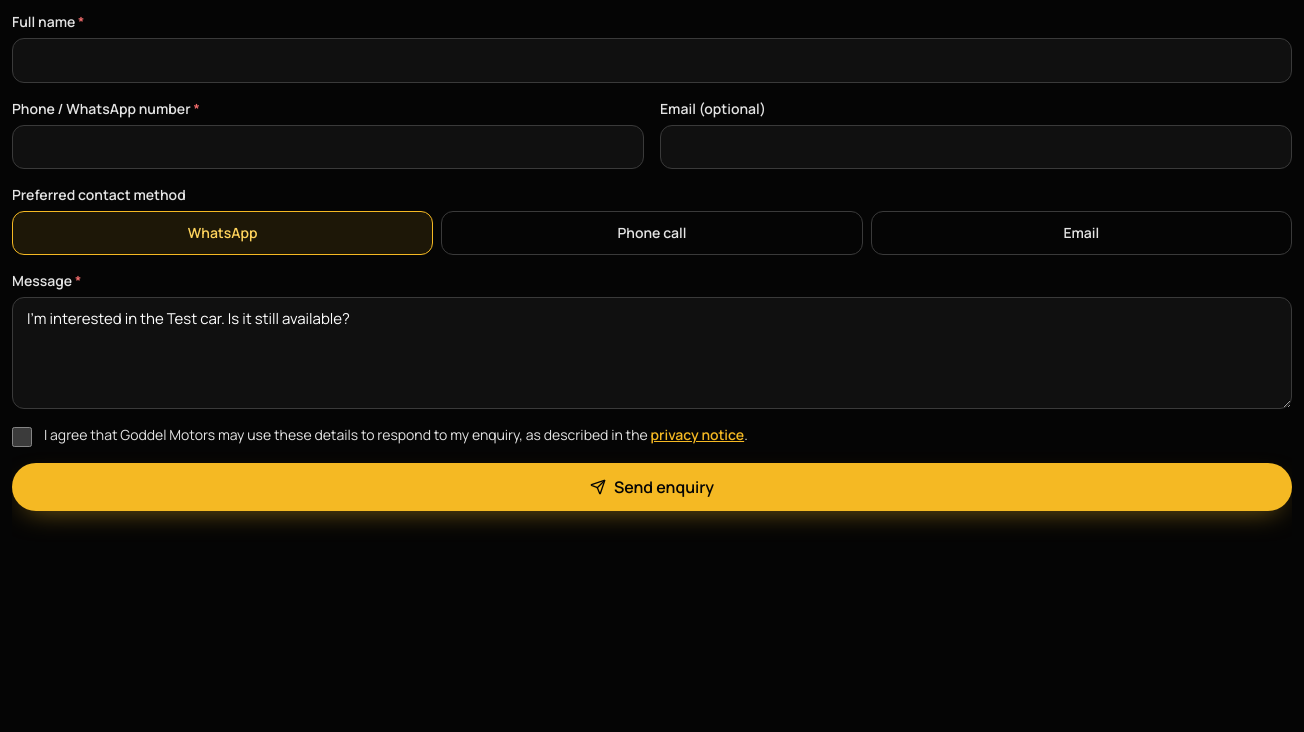
Test case: EnquiryForm › shows a friendly message when rate limited
Step 1. Type "Ama Mensah" into the field labelled "Full name *" → (652, 60), box left=12, top=38, right=1292, bottom=82
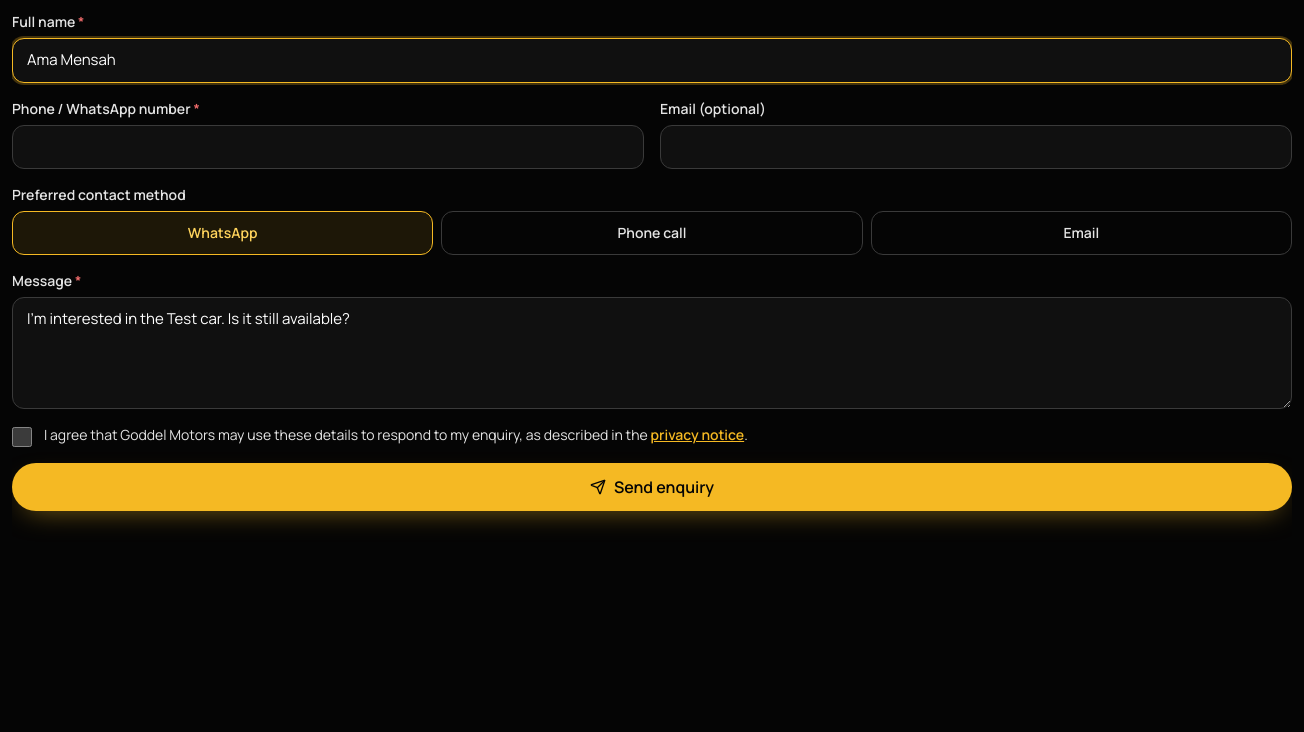
Step 2. Type "+233 24 123 4567" into the field labelled "Phone / WhatsApp number *" → (328, 147), box left=12, top=124, right=644, bottom=169
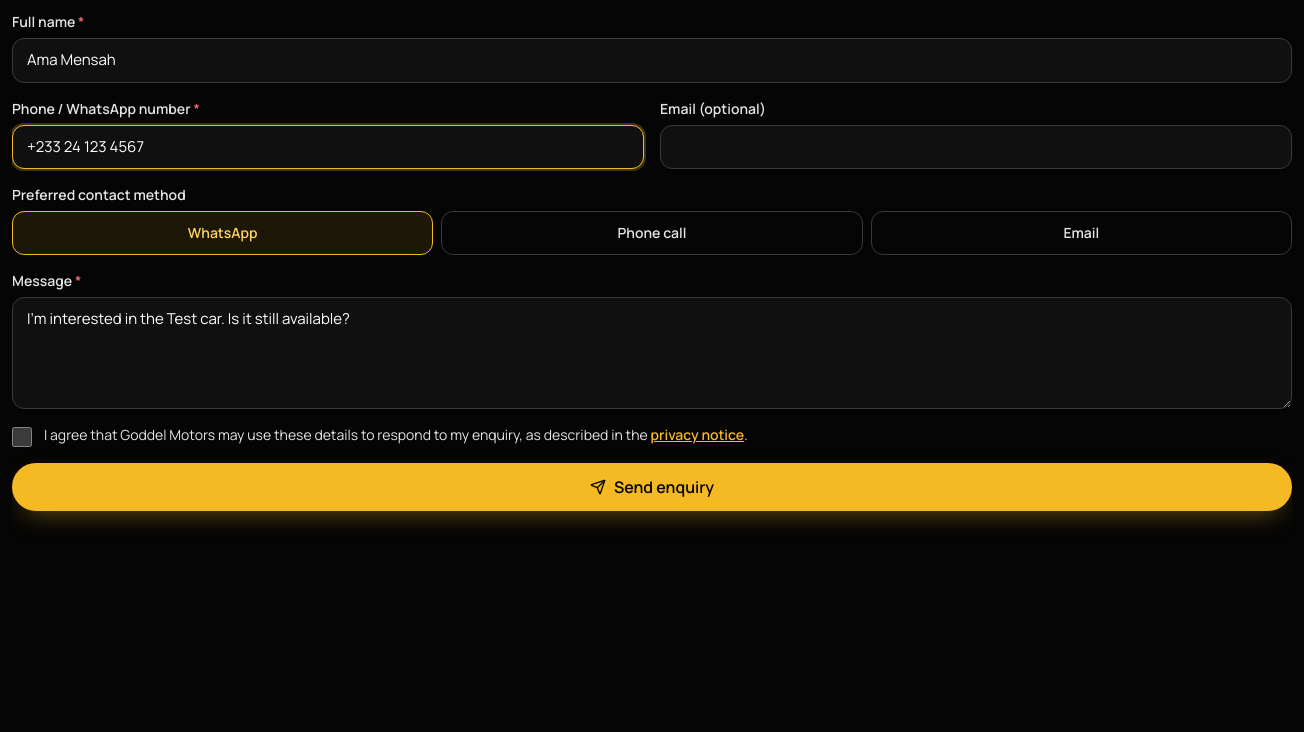
Step 3. Click the checkbox → (22, 437), box left=12, top=427, right=32, bottom=447
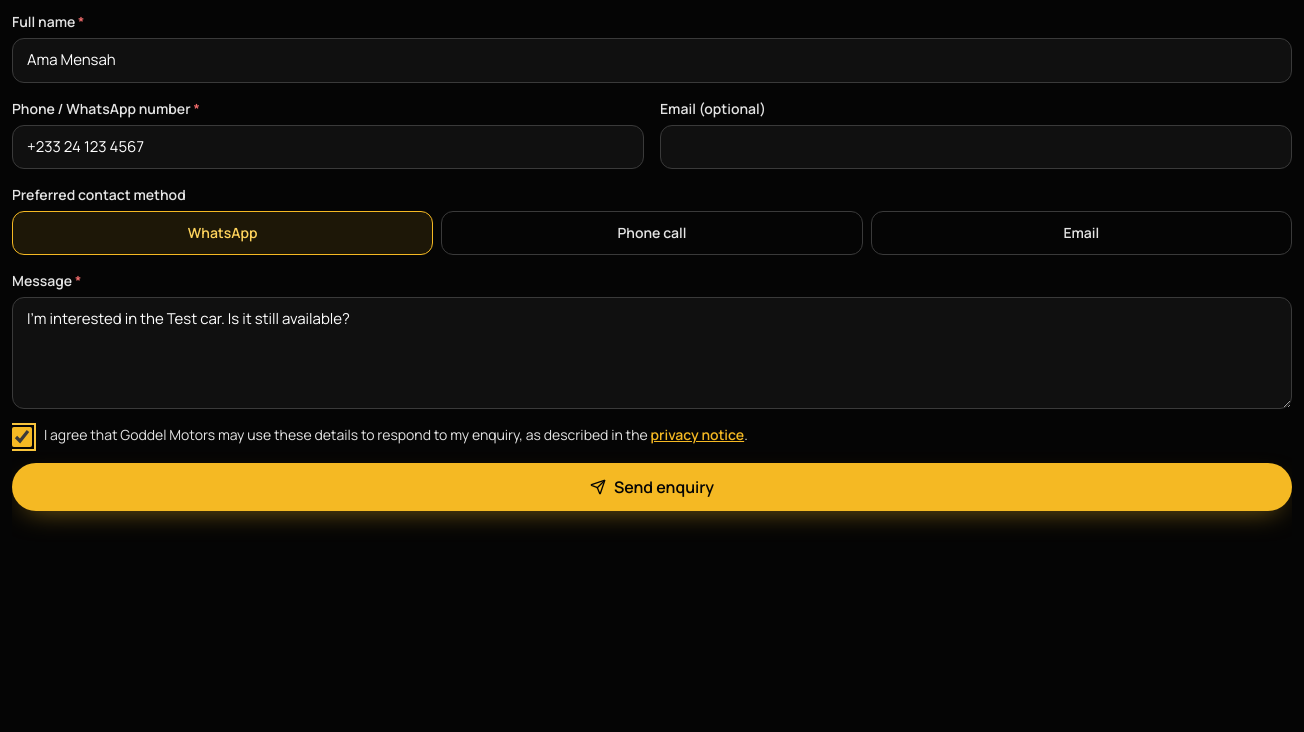
Step 4. Click the button "Send enquiry" → (652, 487), box left=12, top=463, right=1292, bottom=511
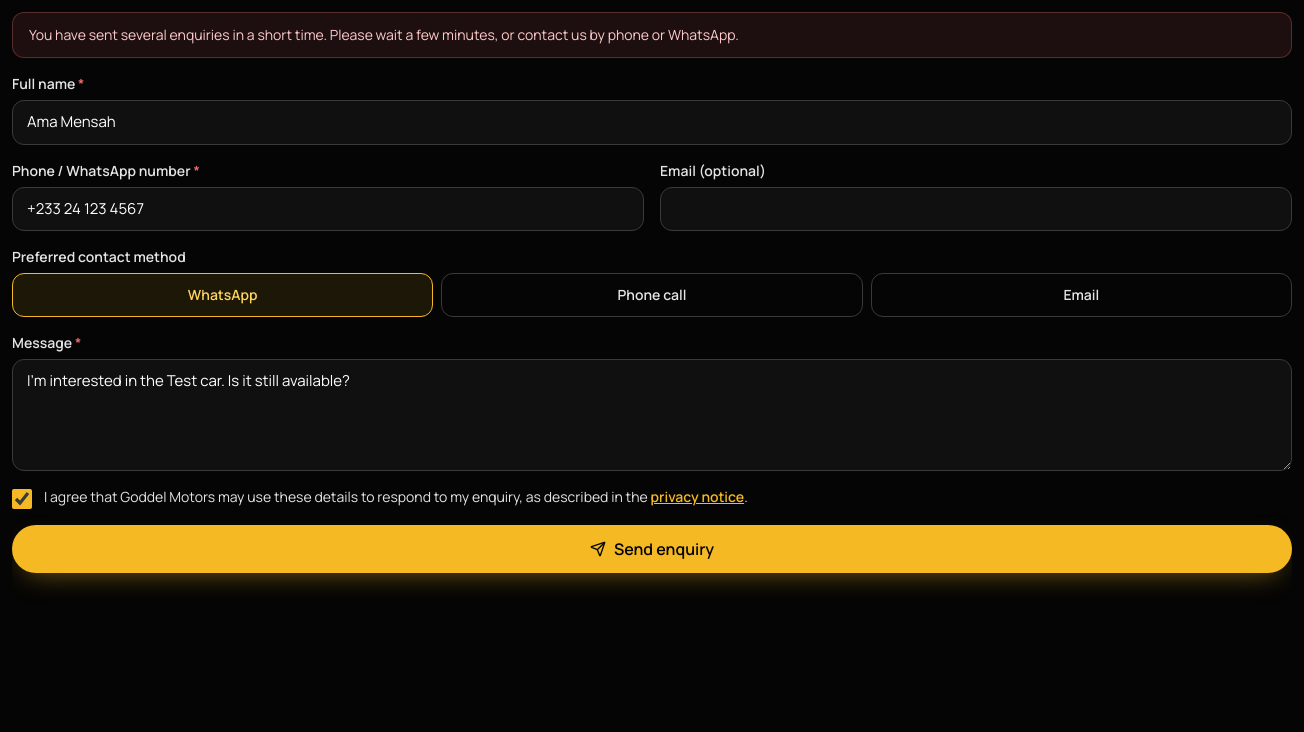
Now the message shows "several enquiries in a short time", box left=29, top=25, right=739, bottom=44
